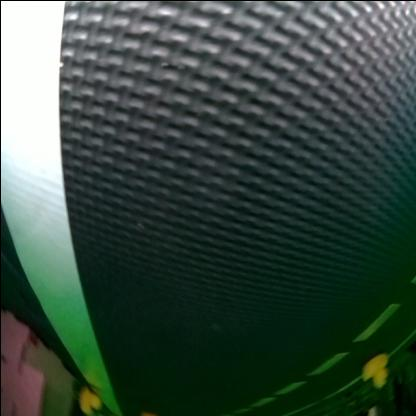Duckie: (361, 354, 385, 388), (77, 388, 99, 412)
